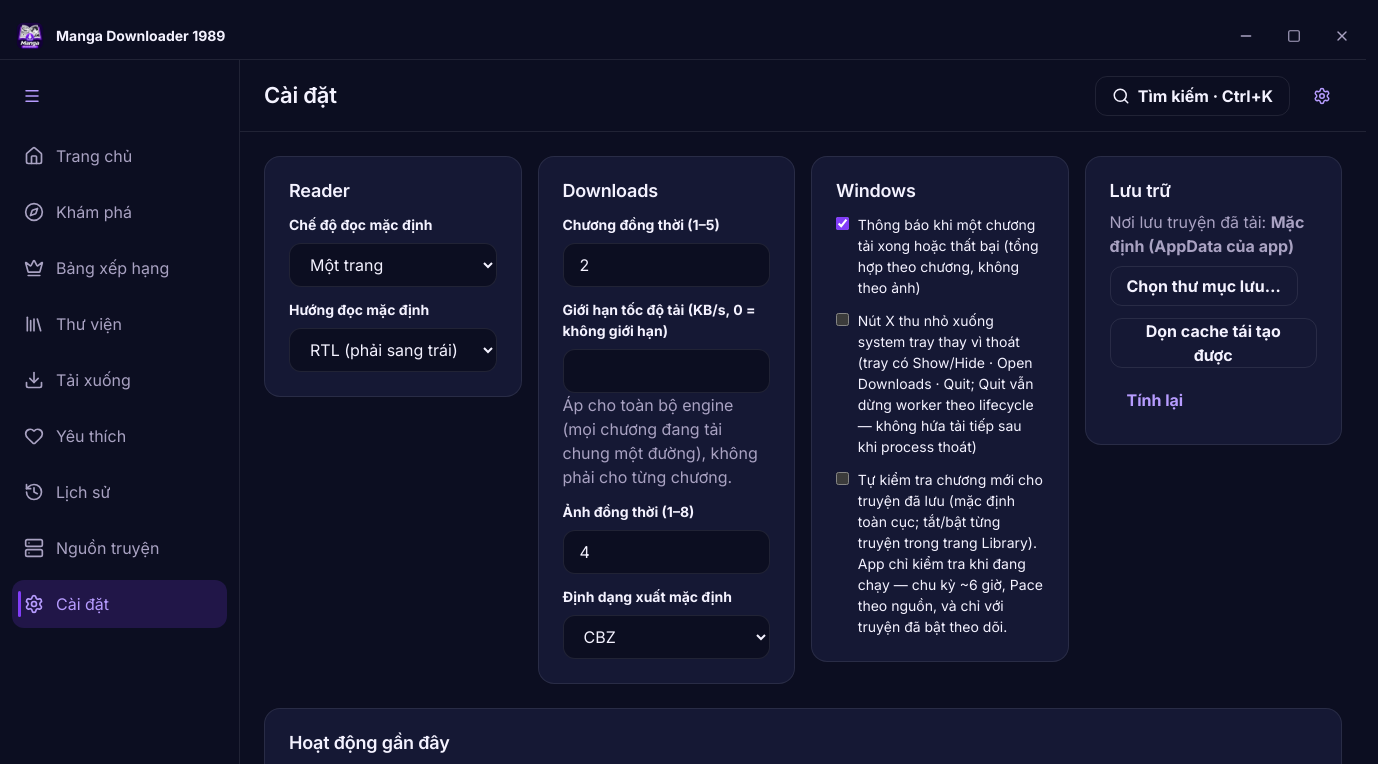
Test: T08-15/T08-16 favorites pagination + storage panel › settings storage panel shows sizes and clears only regenerable cache (inline confirm)
The width and height of the screenshot is (1378, 764).
Expected: the text "Nơi lưu truyện đã tải: Mặc định (AppData của app)" is shown, [1110,210,1317,258]
# Two-step inline confirmation — no native dialog in webviews.
Click the button "Dọn cache tái tạo được" at [1213, 343], box [1110,318,1317,368]
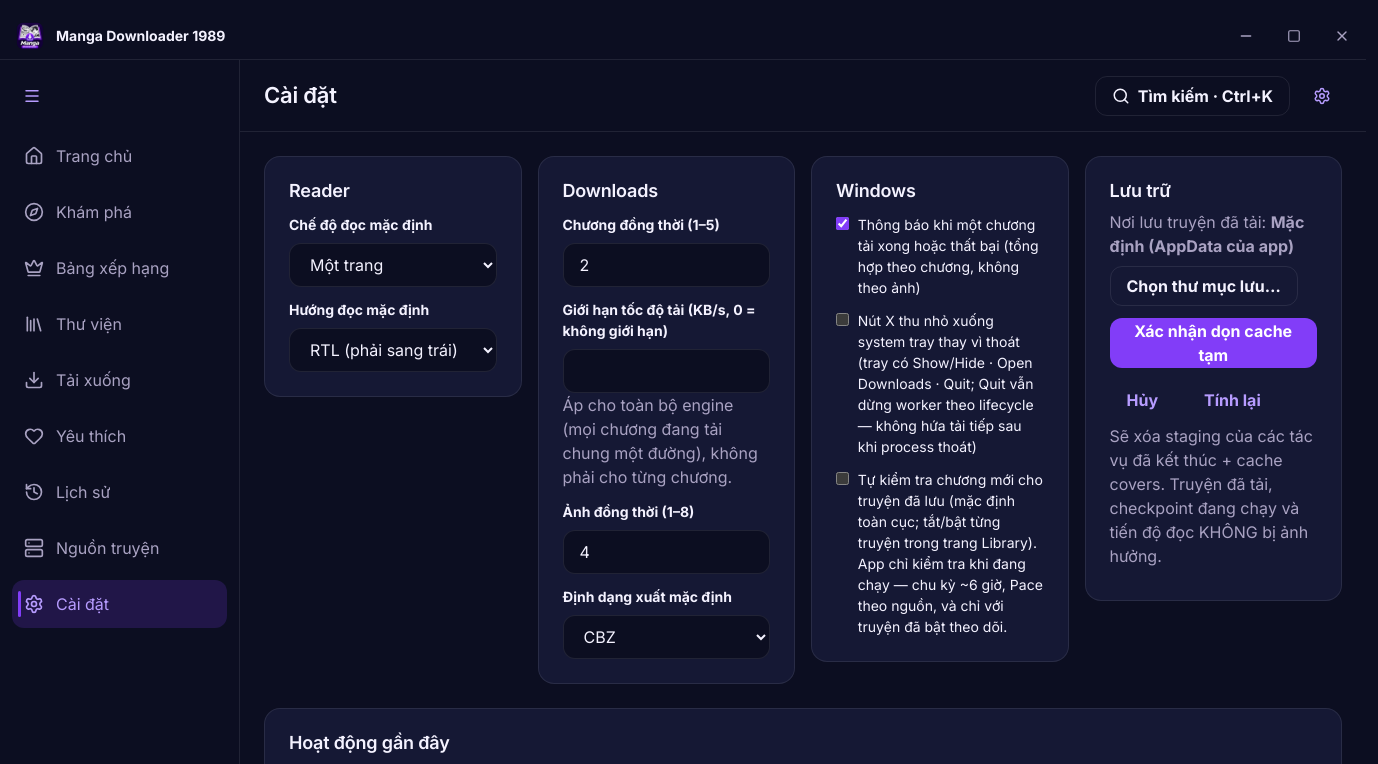
Now the text "Sẽ xóa staging của các tác vụ đã kết thúc" is shown, box [1110,426,1313,566]
Click the button "Xác nhận dọn cache tạm" at [1213, 343], box [1110,318,1317,368]
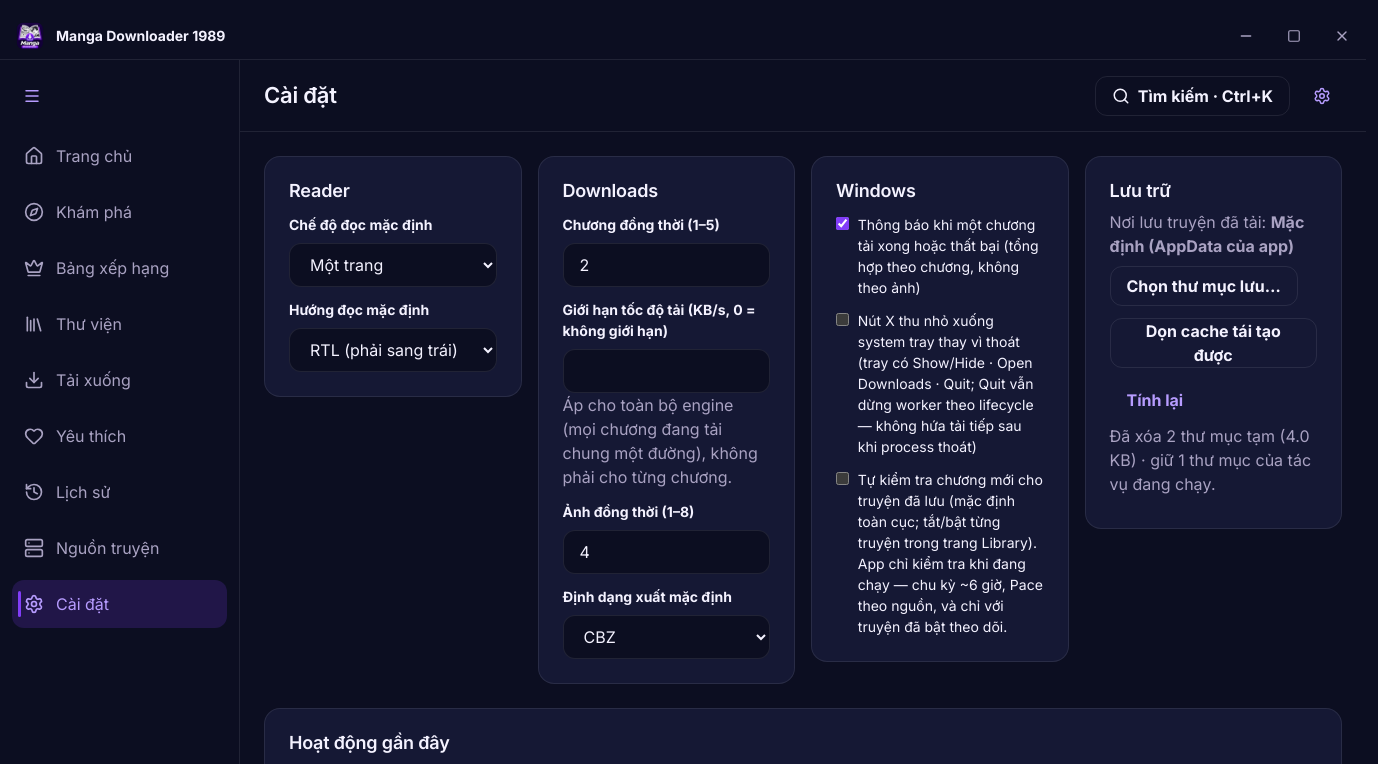
Now the text "Đã xóa 2 thư mục tạm (4.0 KB) · giữ 1 thư mục của tác vụ đang chạy." is shown, box [1110,424,1317,496]
